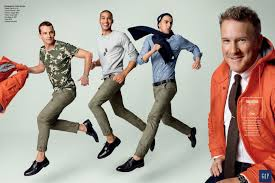F_belt: (149, 74, 182, 92)
F_tie: (213, 71, 247, 181)
